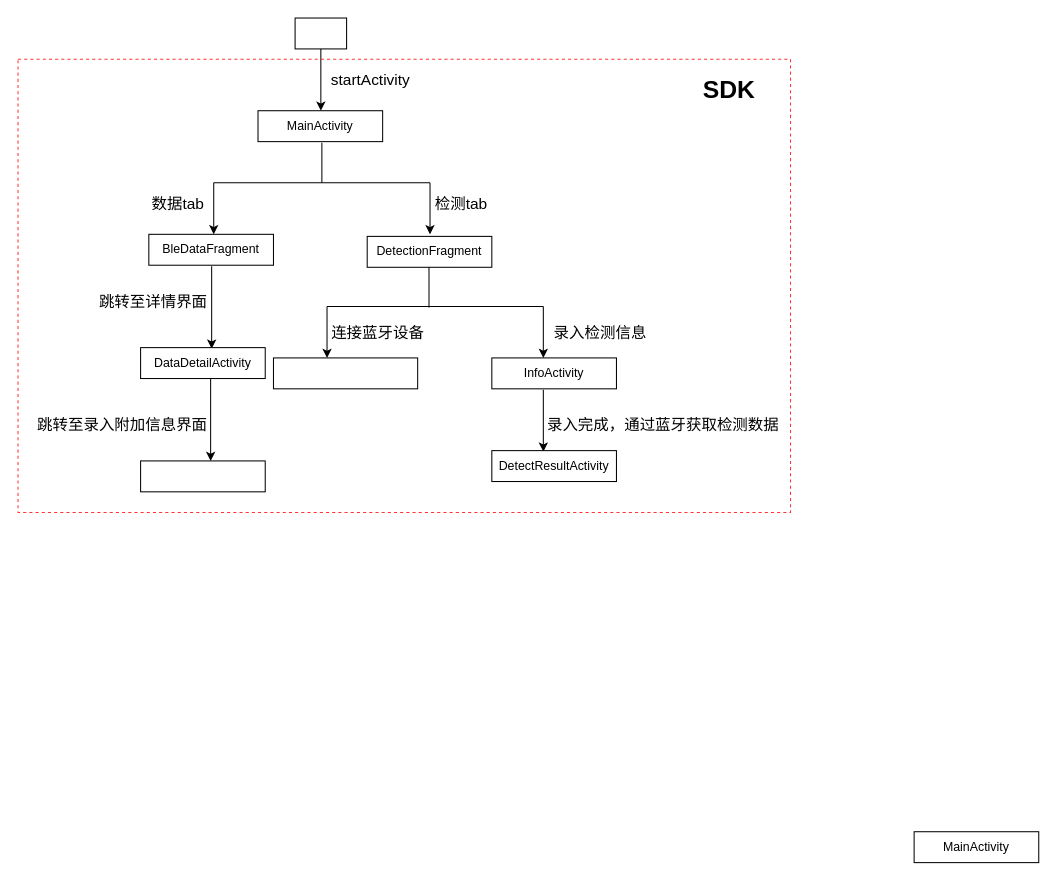
The diagram is 1057 pixels wide and 881 high, and some of its shapes have lost their labels. Each missing label, with the box of its shape:
AddAdditionalActivity: (140, 460, 265, 492)
APP: (294, 17, 347, 49)
BleDeviceSearchActivity: (272, 357, 418, 389)
